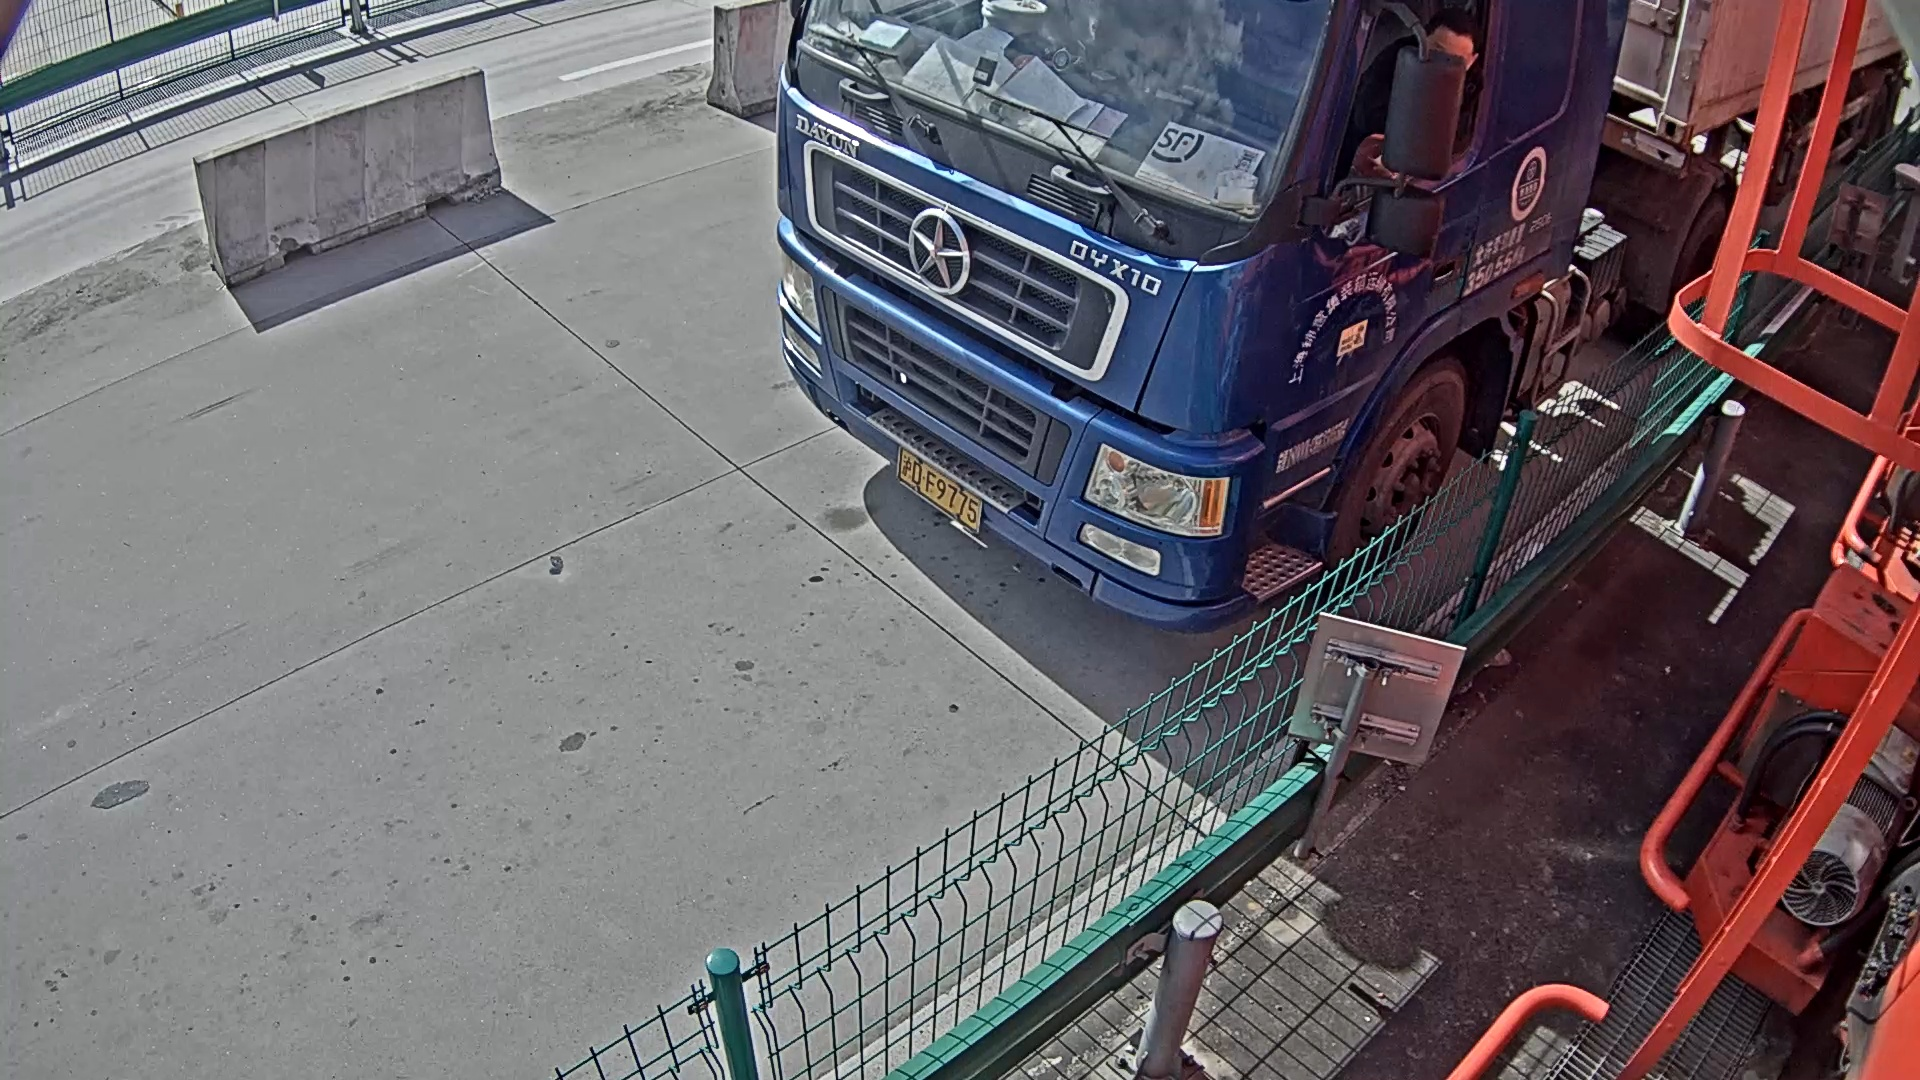head: (773, 1, 1615, 632)
plate: (899, 444, 986, 529)
